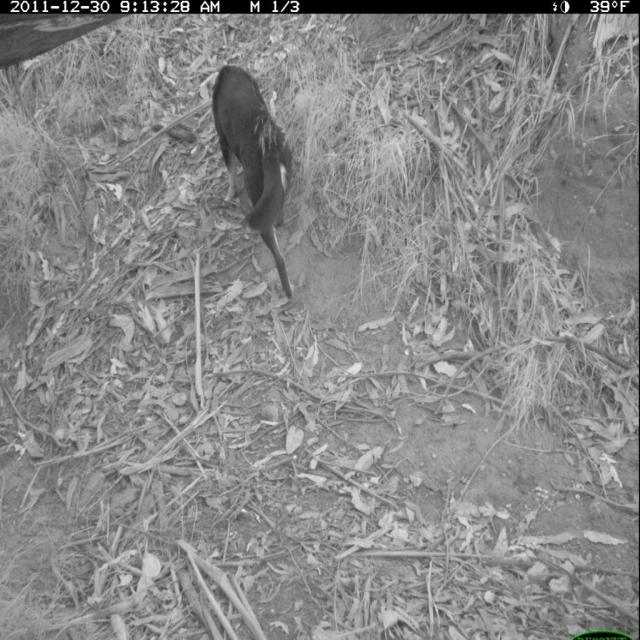dog: (191, 54, 336, 326)
